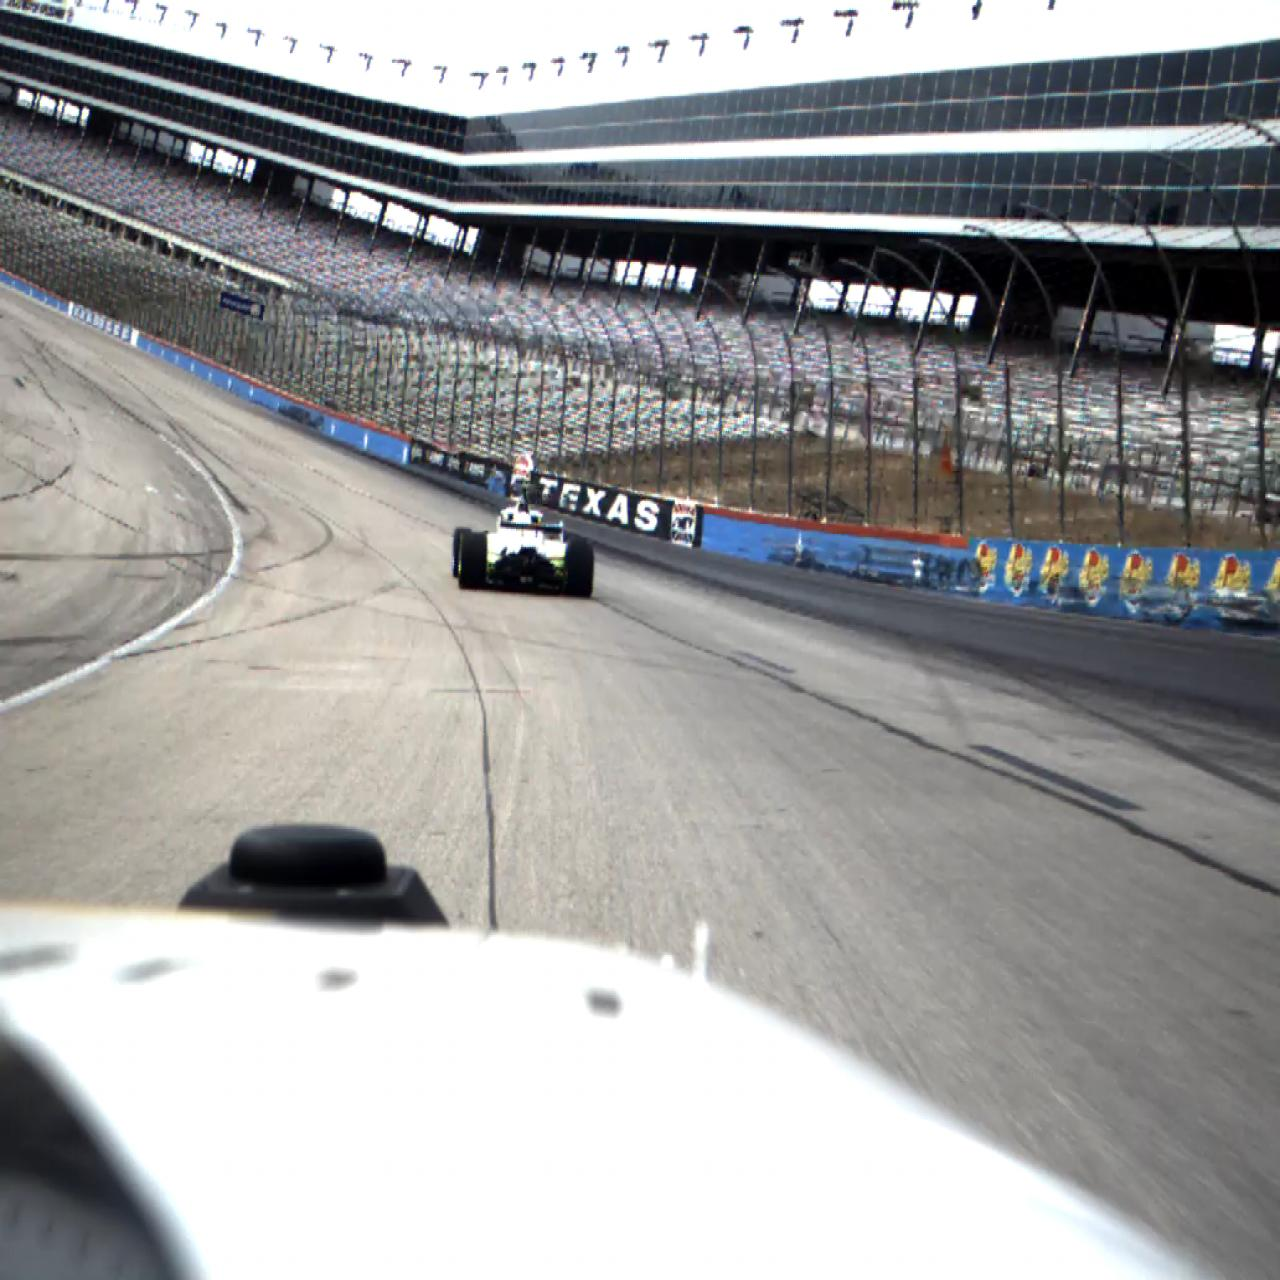AV: (451, 484, 594, 598)
Wheel: (565, 537, 593, 599), (459, 533, 486, 591), (452, 527, 472, 578)
